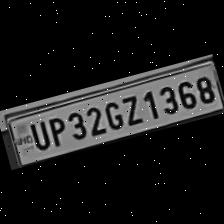1: (136, 87, 161, 122)
2: (81, 102, 108, 138)
3: (62, 106, 90, 143), (153, 80, 180, 116)
6: (172, 76, 200, 112)
8: (190, 70, 218, 106)
G: (99, 96, 125, 134)
P: (43, 113, 70, 150)
U: (23, 117, 52, 153)
Z: (117, 92, 145, 128)
